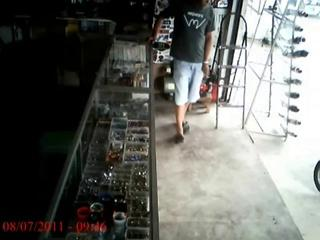Normal: (147, 0, 216, 143)
